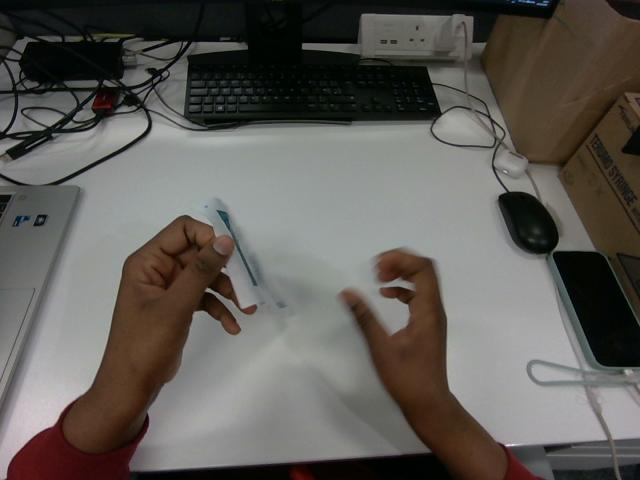gallipot: (201, 198, 284, 307)
